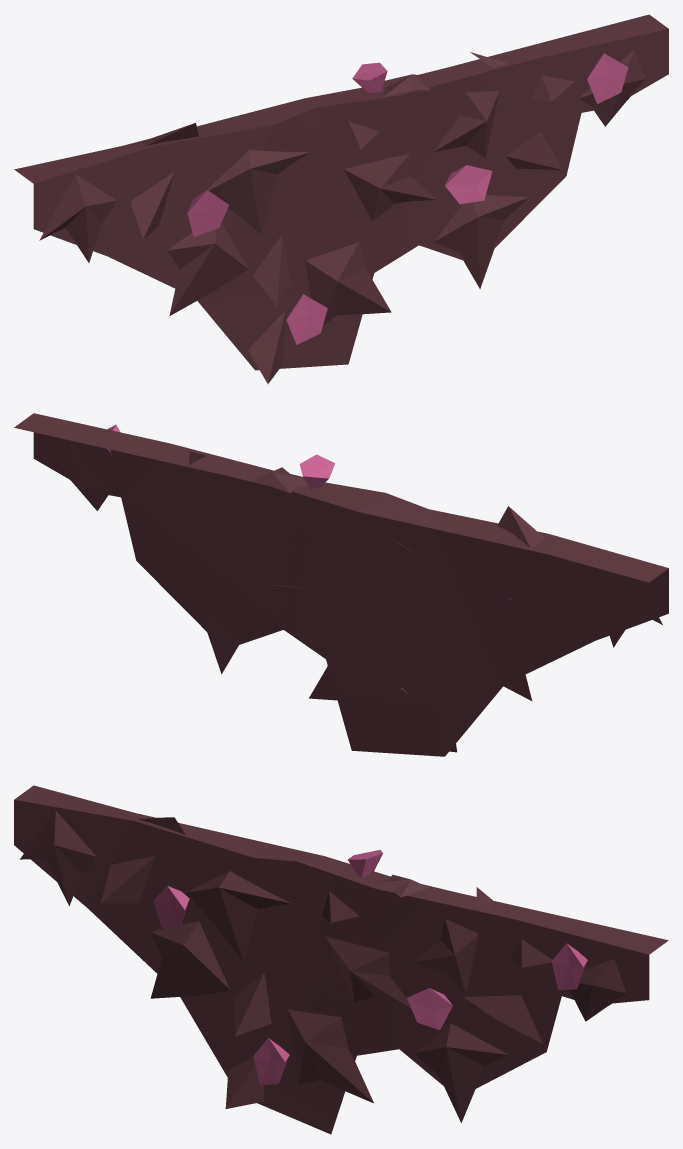
The model's file is SM_Ivy_Medium_Blossom_Empire.fbx.
3 views of the same model, one above another, from view 1: azimuth 30°, elevation 25°; view 2: azimuth 150°, elevation 25°; view 3: azimuth 330°, elevation 25° (orthographic).
Parts seen in each view (by area): view 1: SM_Ivy_Medium_Blossom_Empire; view 2: SM_Ivy_Medium_Blossom_Empire; view 3: SM_Ivy_Medium_Blossom_Empire.
Part boxes in pixels (x1,y1,x2,y2): SM_Ivy_Medium_Blossom_Empire: (14,14,668,383); SM_Ivy_Medium_Blossom_Empire: (14,413,668,756); SM_Ivy_Medium_Blossom_Empire: (14,785,668,1134).
Size of the model in its own units: 3 by 1.29 by 0.267.
